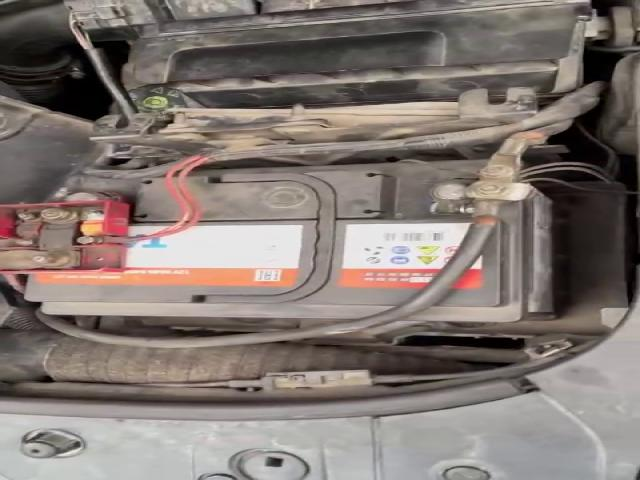accumulator: (0, 161, 564, 321)
